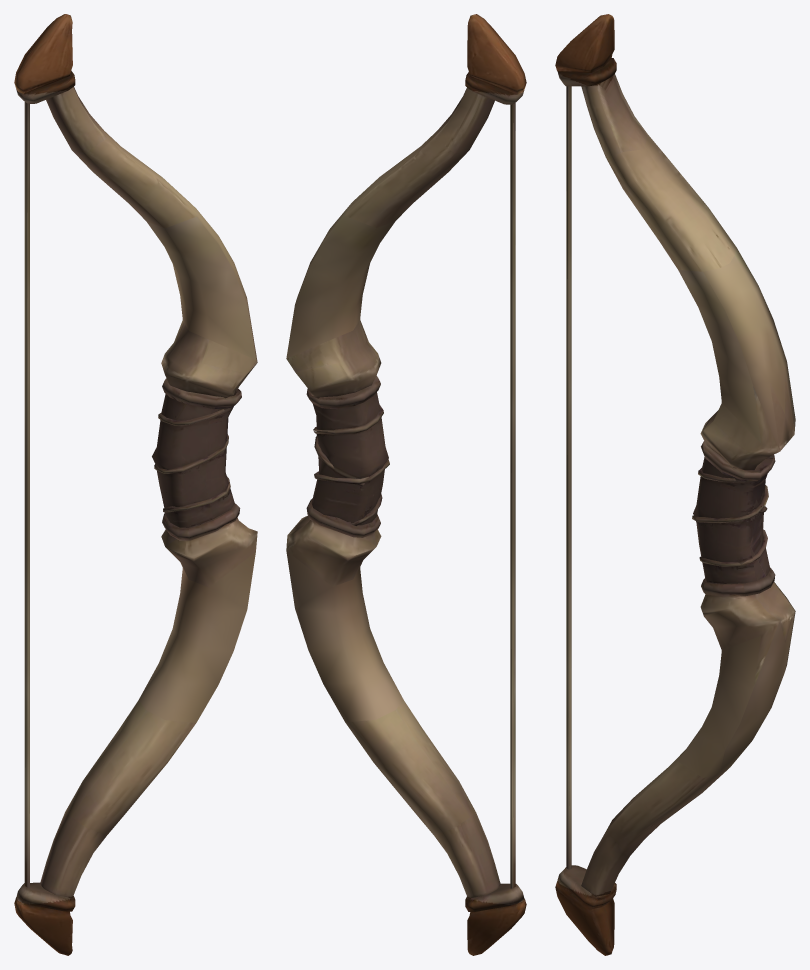
File: bow_wynd_starter.glb
3 views of the same model, side by side, from view 1: azimuth 30°, elevation 25°; view 2: azimuth 150°, elevation 25°; view 3: azimuth 330°, elevation 25° (orthographic).
Parts seen in each view (by area): view 1: tripo_node_1c3814b1-62b4-4dd5-9041-0118577f60f9; view 2: tripo_node_1c3814b1-62b4-4dd5-9041-0118577f60f9; view 3: tripo_node_1c3814b1-62b4-4dd5-9041-0118577f60f9.
Boxes of the visible parts, x1,y1,x2,y2 form: tripo_node_1c3814b1-62b4-4dd5-9041-0118577f60f9: (14,14,257,955); tripo_node_1c3814b1-62b4-4dd5-9041-0118577f60f9: (286,14,526,955); tripo_node_1c3814b1-62b4-4dd5-9041-0118577f60f9: (555,14,795,955).
Bounding box in the file's own units: 0.463 × 1.8 × 0.1415.
1 material, 1 textured.
